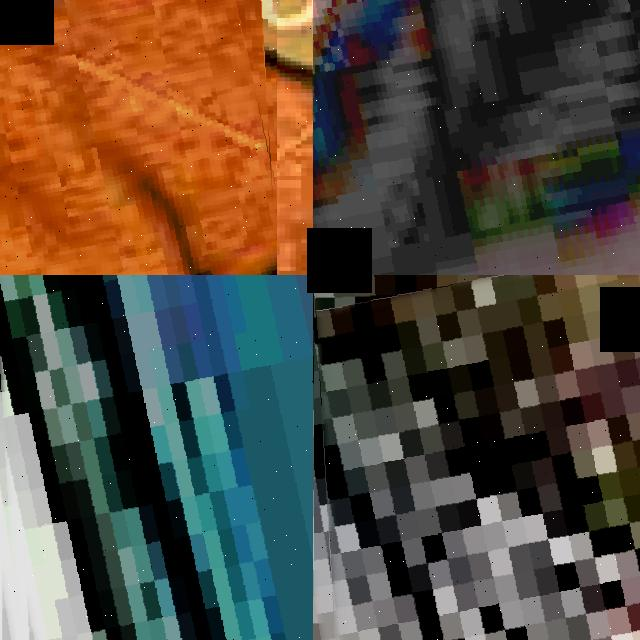arms: (313, 275, 640, 640), (0, 275, 313, 640), (313, 0, 640, 275), (0, 0, 277, 275)
